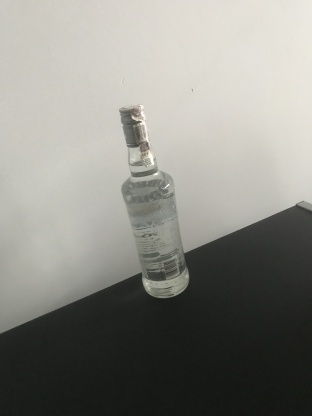nakretka: (117, 103, 149, 148)
